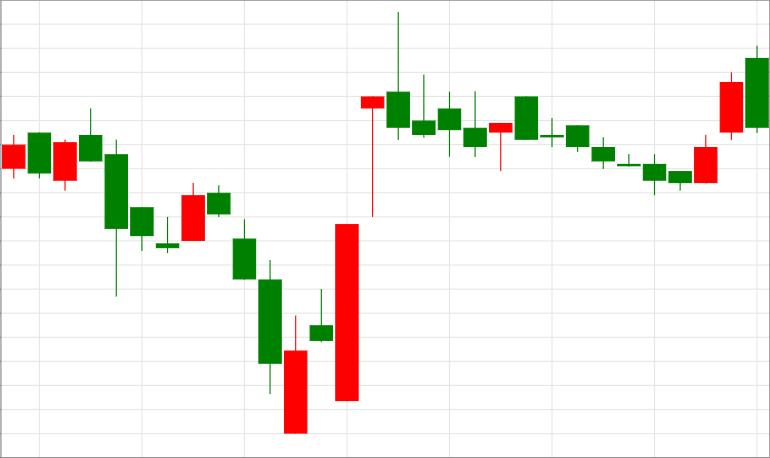morning_star_rise: (79, 108, 206, 296)
shooting_star_fall: (284, 12, 409, 433)
